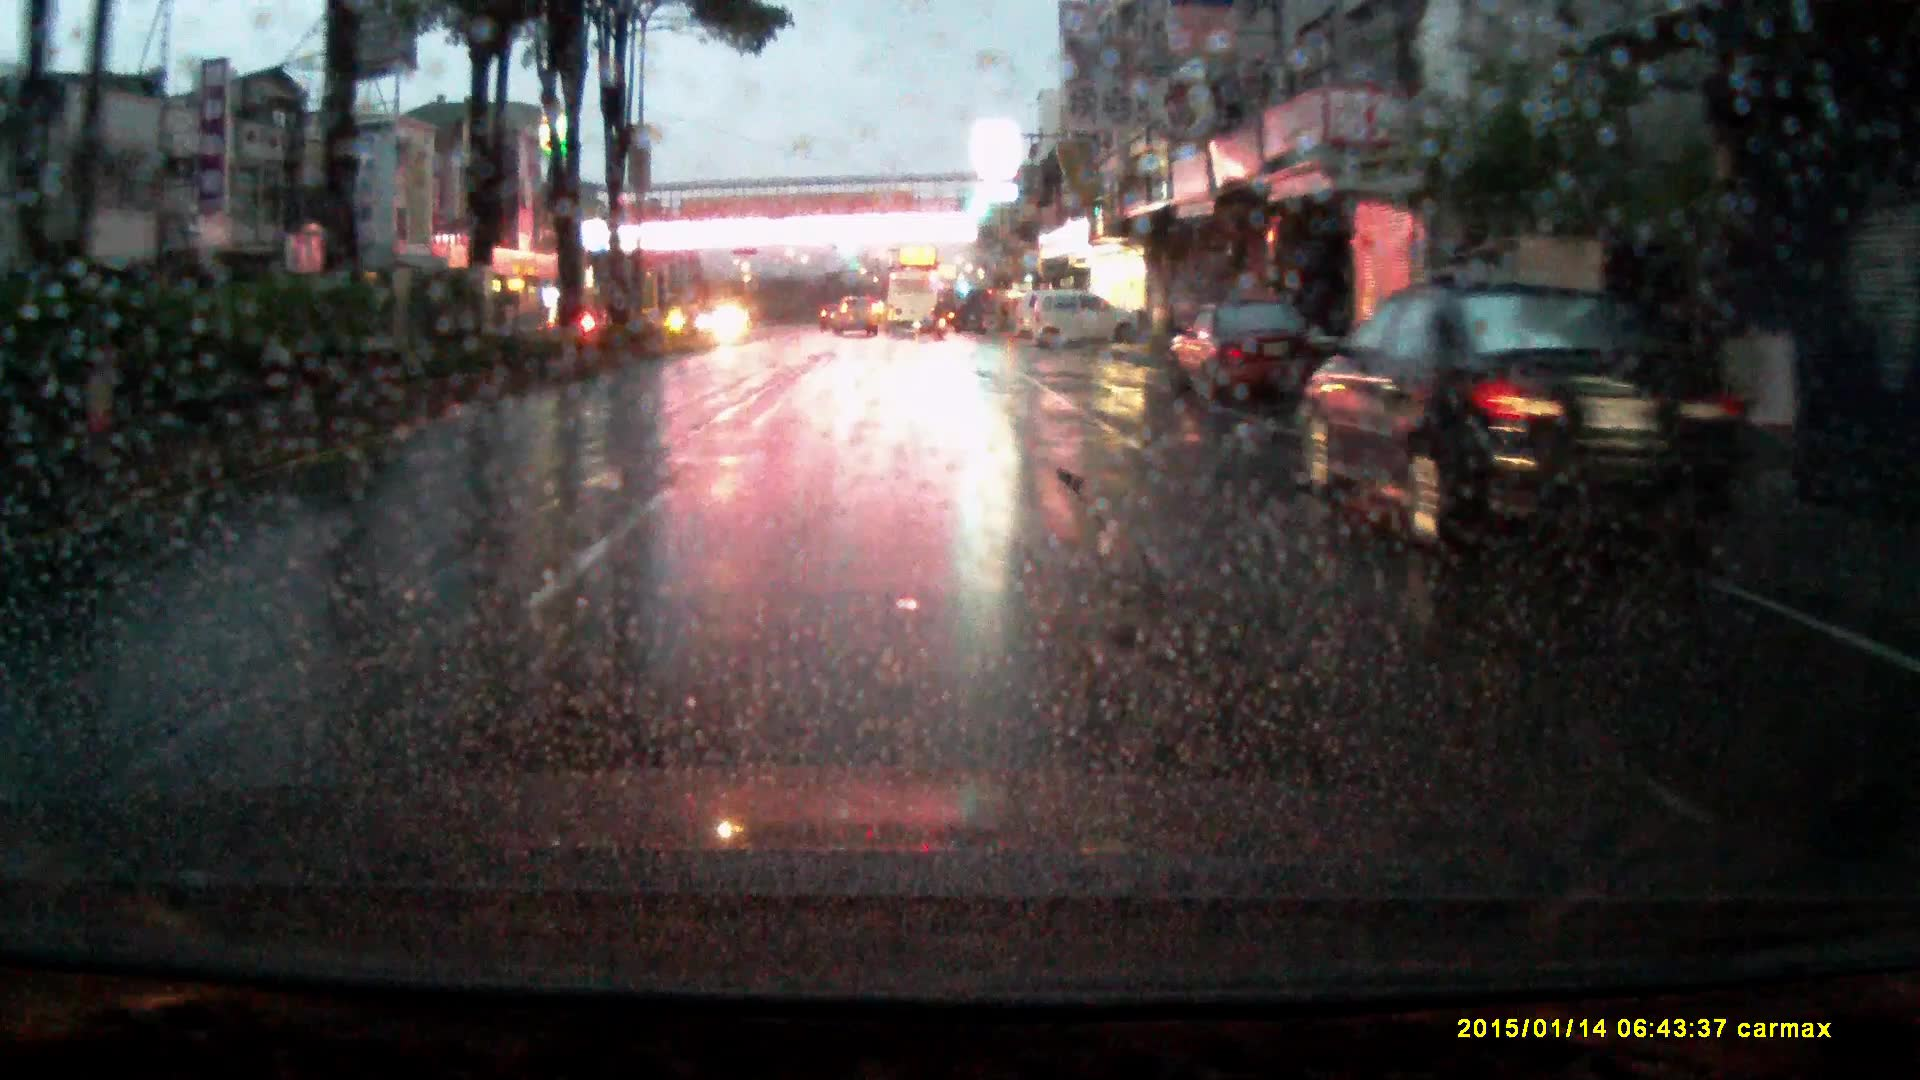vehicle: (1294, 284, 1743, 558), (1168, 305, 1338, 417), (1027, 291, 1143, 352), (884, 274, 938, 331), (833, 295, 880, 338), (819, 305, 839, 330)
